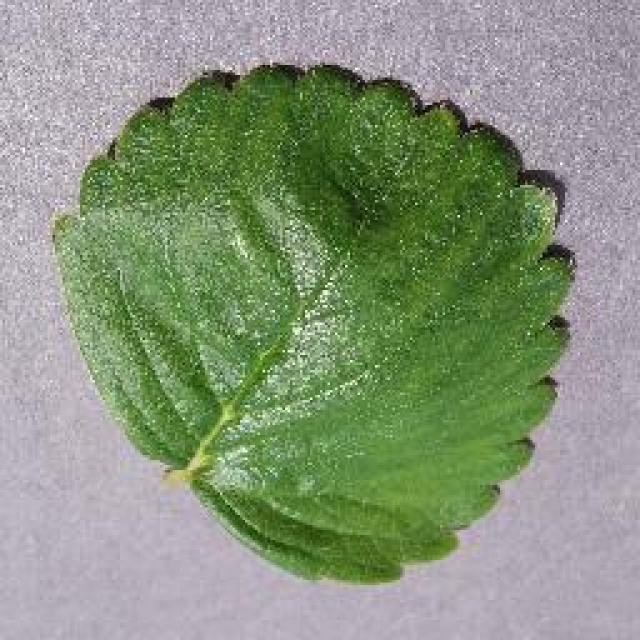Strawberry___healthy: (35, 40, 585, 608)
